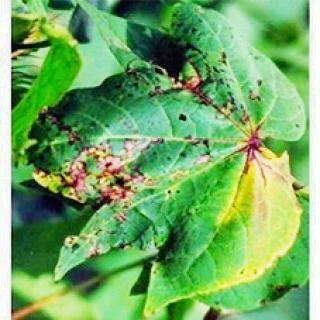blight: (28, 26, 305, 302)
